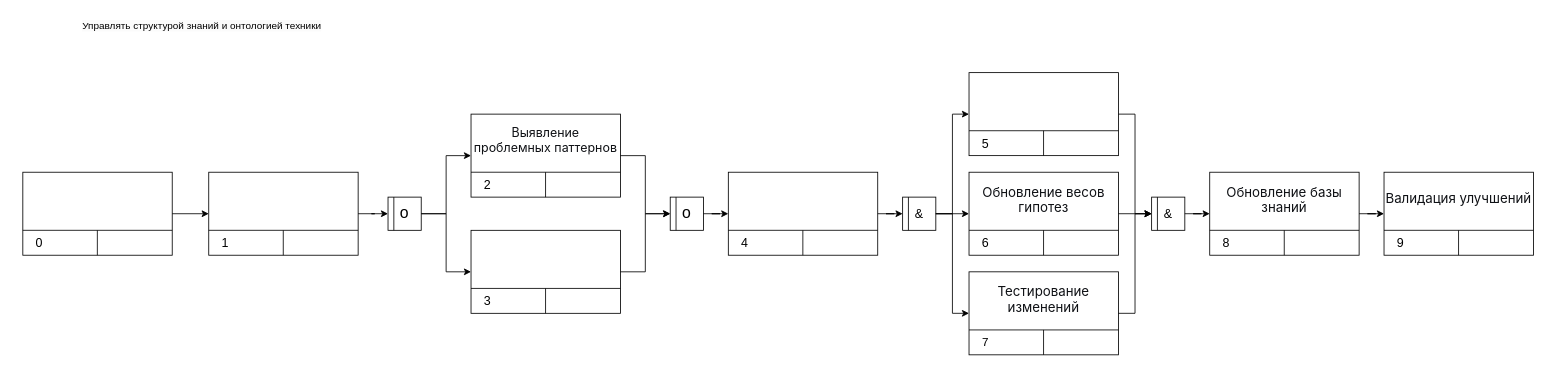
Image size: 1549x370. Some labels were removed from this diagram. Here are the shapes that lost their labels. From the top down, the box of each, then its label:
(968, 72, 1118, 156): Исправление деревьев решений
(22, 171, 172, 255): Сбор метрик завершённых сессий
(208, 171, 358, 255): Анализ точности диагностики
(727, 171, 878, 255): Генерация отчётов для разработчиков
(470, 229, 620, 313): Корректировка диагностических алгоритмов
